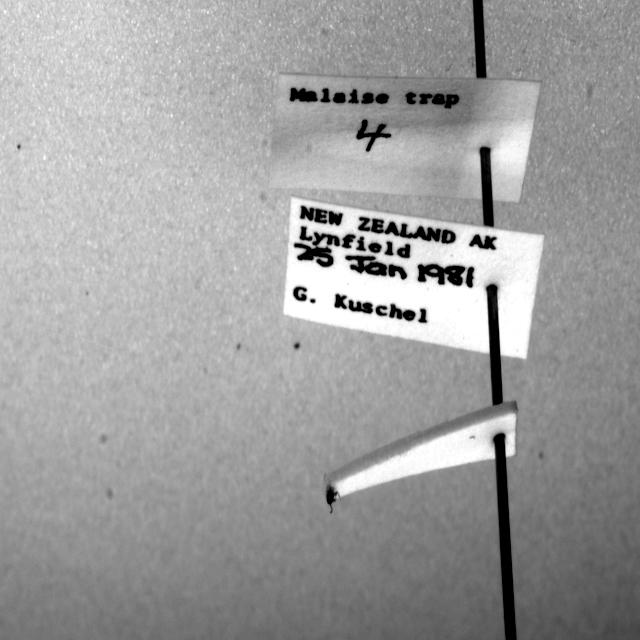mixed_label: (284, 197, 544, 358), (269, 73, 541, 202)
